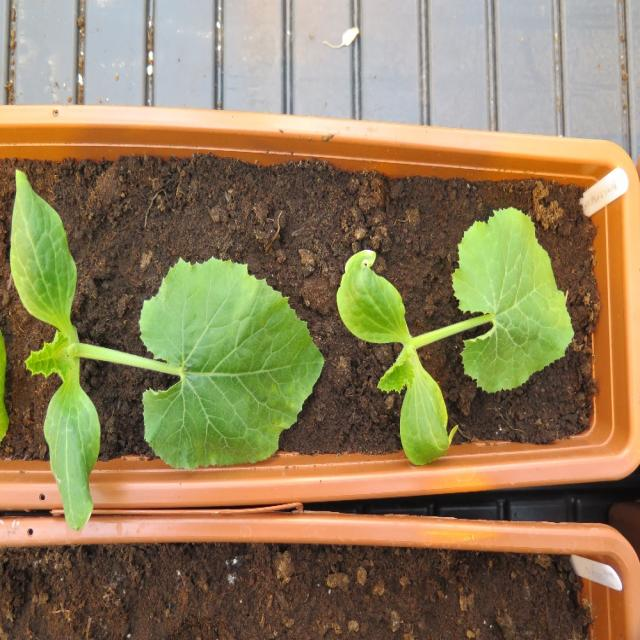crop: (8, 165, 324, 532), (334, 205, 577, 468)
